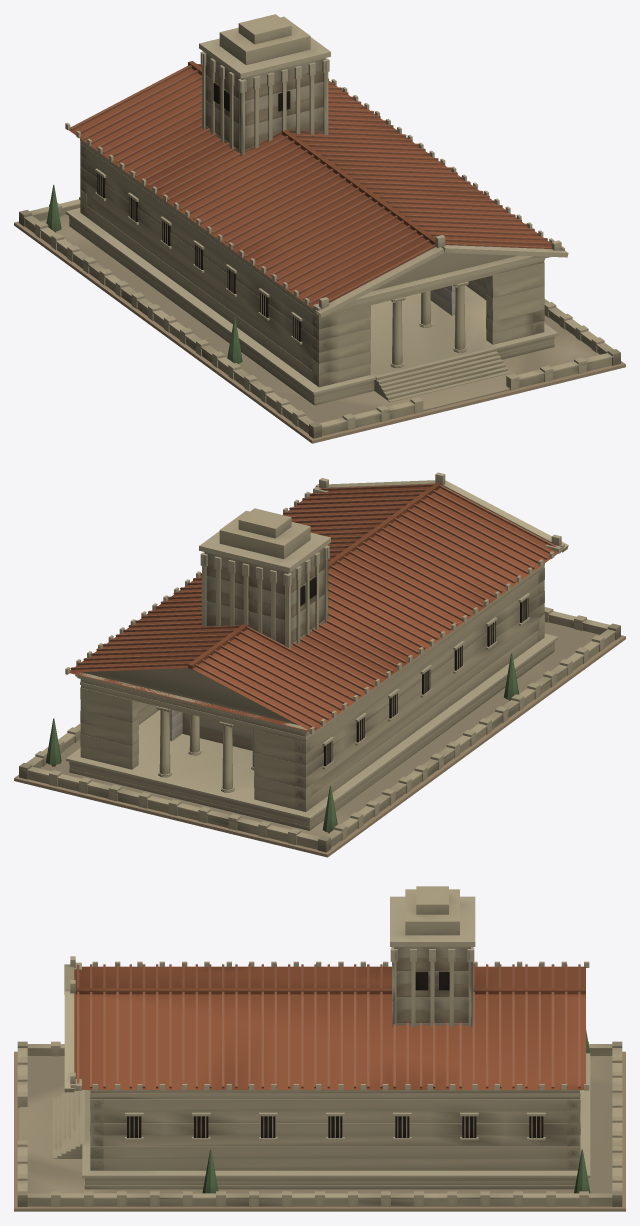
Rendered from jandial.glb.
3 views of the same model, one above another, from view 1: azimuth 30°, elevation 25°; view 2: azimuth 150°, elevation 25°; view 3: azimuth 270°, elevation 25° (orthographic). The views are drawn at different scales.
Visible parts, largest first — view 1: p2_roof and tower, p0_plinth, p1_walls and columns; view 2: p2_roof and tower, p0_plinth, p1_walls and columns; view 3: p2_roof and tower, p0_plinth, p1_walls and columns.
Boxes of the visible parts, x1,y1,x2,y2 form: p2_roof and tower: [65, 14, 568, 317]; p0_plinth: [14, 184, 625, 443]; p1_walls and columns: [80, 143, 544, 387]; p2_roof and tower: [65, 472, 568, 742]; p0_plinth: [14, 607, 625, 857]; p1_walls and columns: [80, 568, 544, 811]; p2_roof and tower: [64, 886, 589, 1098]; p0_plinth: [14, 1030, 625, 1211]; p1_walls and columns: [89, 1096, 580, 1170].
Size of the model in its own units: 34 by 24.02 by 56.
